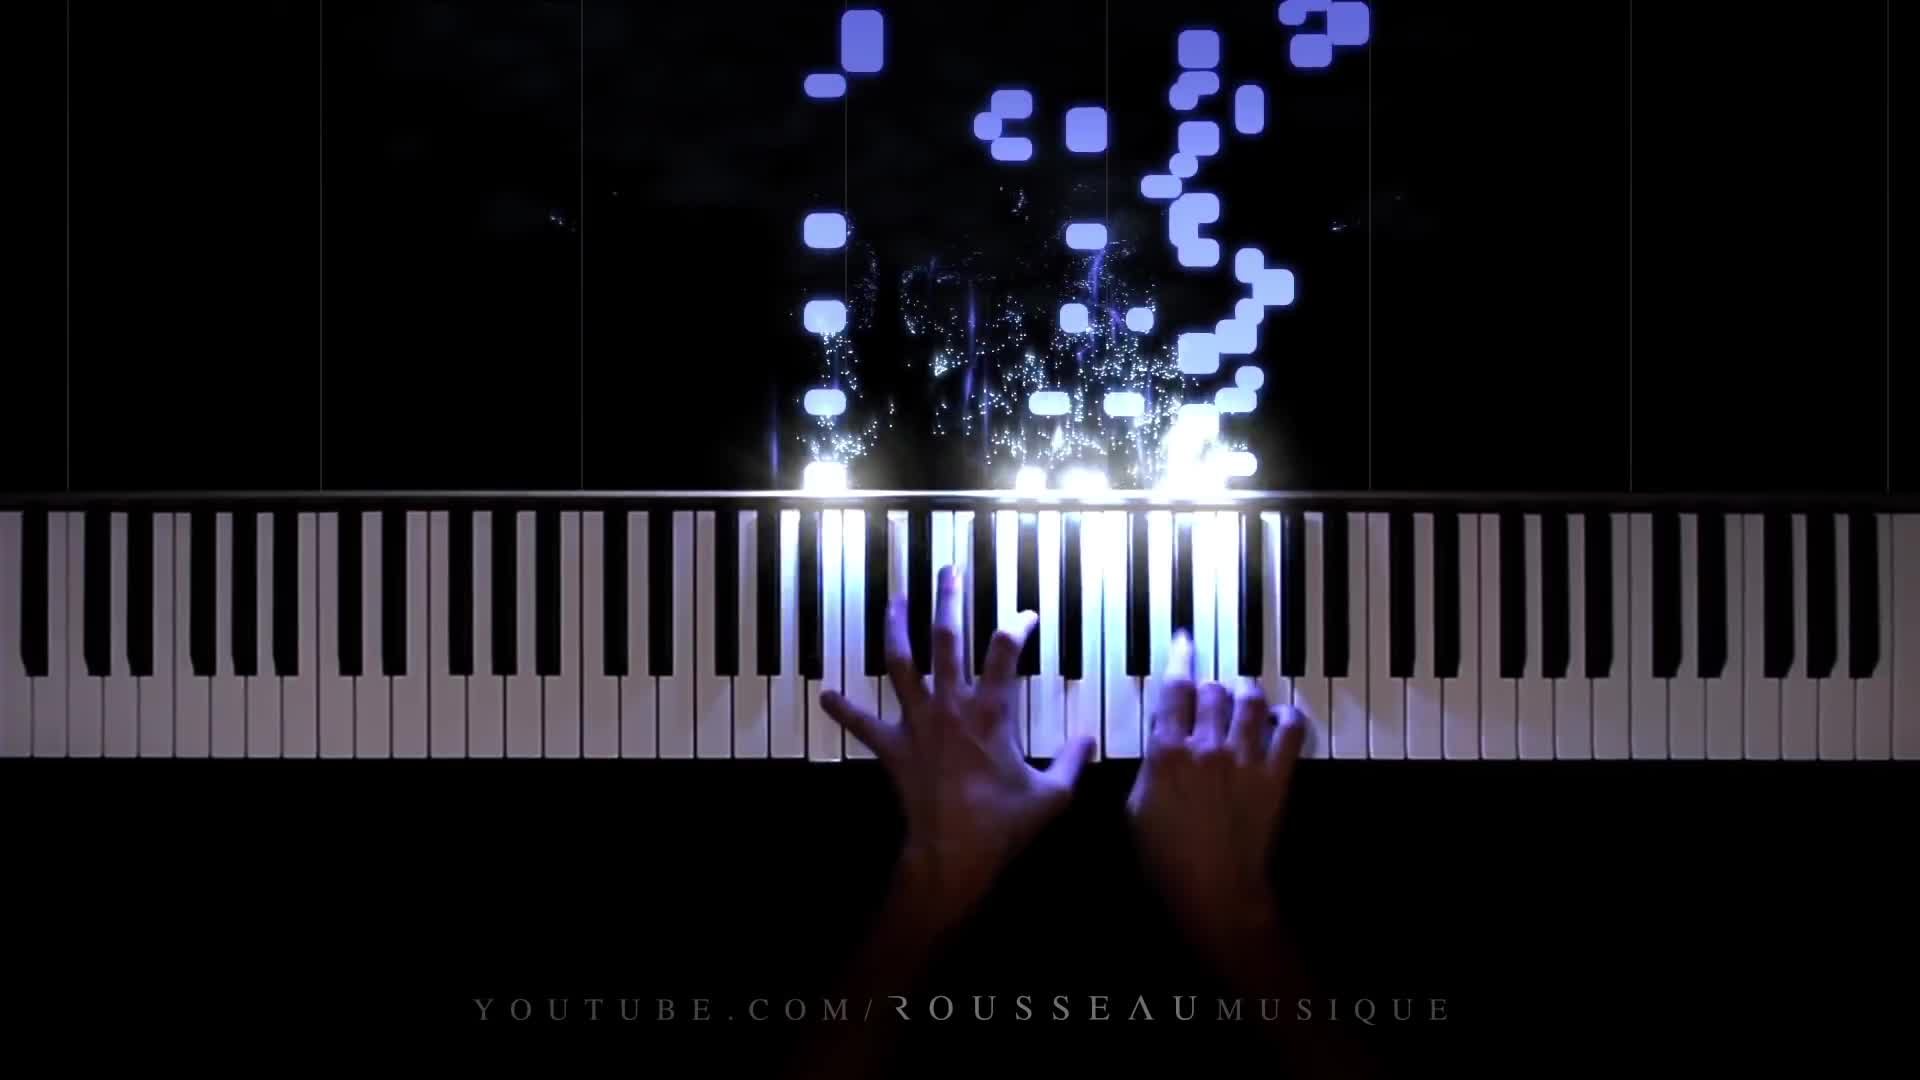left: (819, 564, 1095, 845)
right: (1129, 630, 1305, 853)
